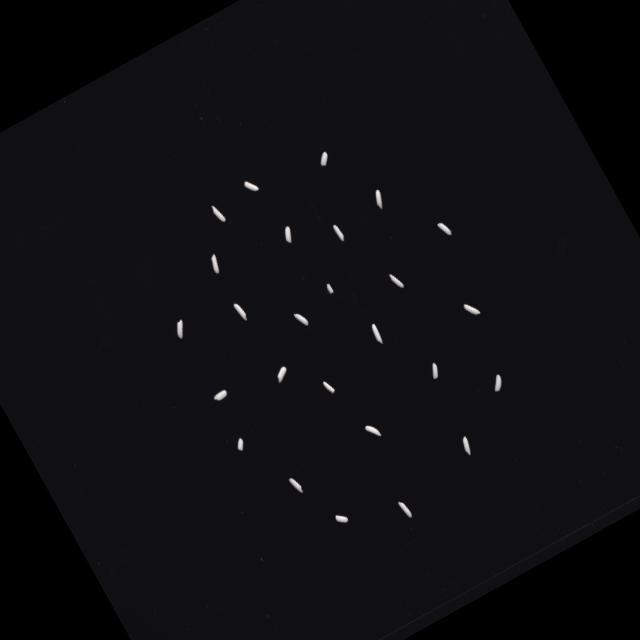Not: (172, 318, 190, 338), (462, 298, 480, 318), (210, 202, 227, 223), (232, 300, 248, 322), (368, 322, 384, 344), (458, 434, 474, 456), (488, 373, 506, 392), (293, 309, 310, 328), (364, 421, 381, 440), (388, 270, 404, 290), (207, 252, 223, 272), (371, 188, 387, 208), (288, 474, 304, 494), (273, 365, 290, 382), (243, 176, 259, 194), (332, 222, 346, 242), (398, 498, 412, 518), (437, 219, 452, 237), (280, 225, 295, 243), (316, 150, 331, 166), (322, 378, 336, 394), (427, 362, 441, 378), (212, 388, 228, 401), (334, 510, 348, 524), (234, 436, 247, 451), (326, 282, 334, 294)
